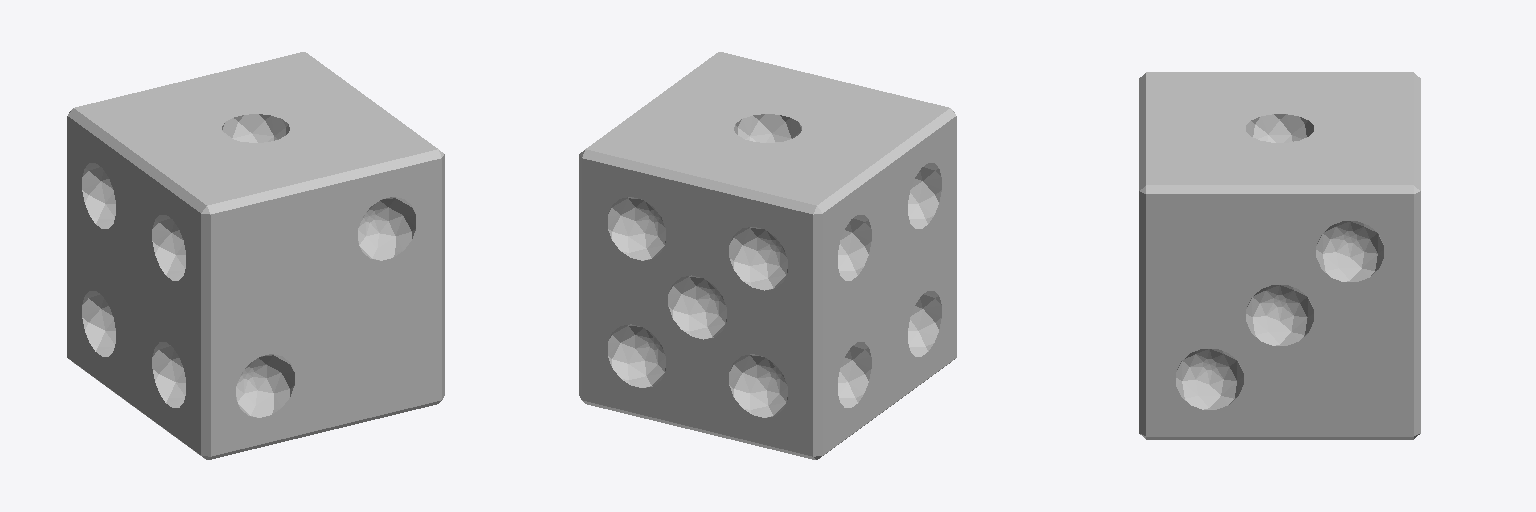
Rendered from the dice.obj.
3 renders of one model, left to right at view 1: azimuth 30°, elevation 25°; view 2: azimuth 150°, elevation 25°; view 3: azimuth 270°, elevation 25°, orthographic.
Visible parts, largest first — view 1: Cube; view 2: Cube; view 3: Cube.
Boxes of the visible parts, x1,y1,x2,y2 form: Cube: [67, 52, 444, 459]; Cube: [579, 52, 956, 459]; Cube: [1139, 72, 1420, 439].
Bounding box in the file's own units: 2 × 2 × 2.